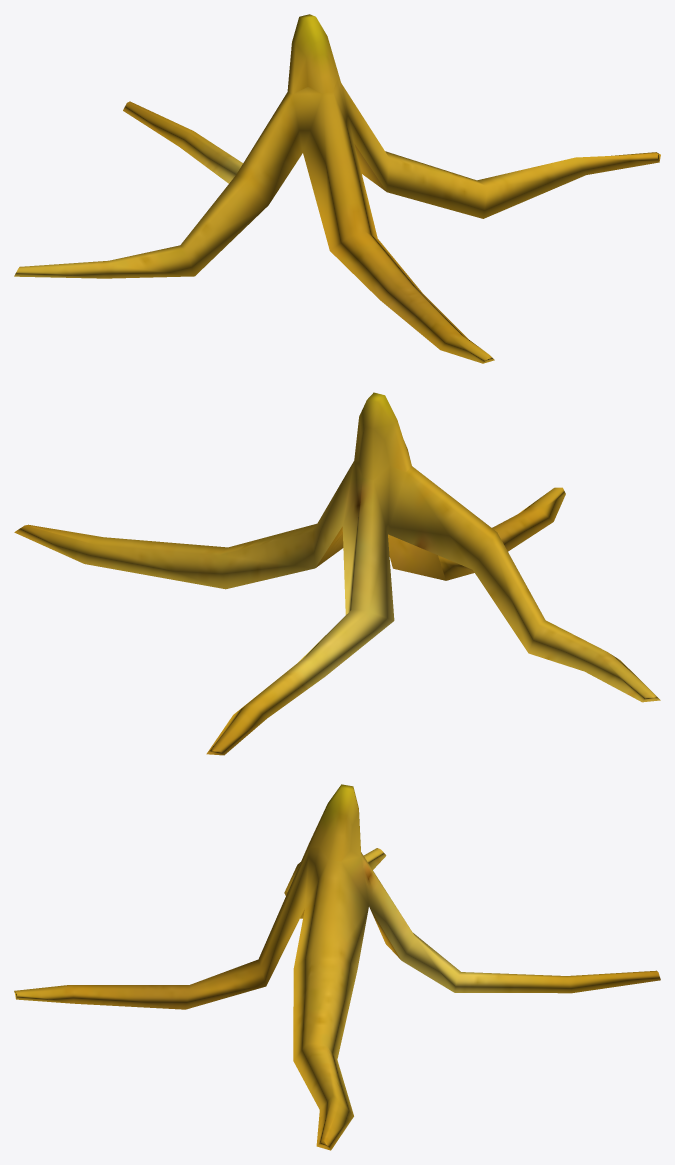
Rendered from Banana.fbx.
3 renders of one model, top to bottom at view 1: azimuth 30°, elevation 25°; view 2: azimuth 150°, elevation 25°; view 3: azimuth 270°, elevation 25°, orthographic. The views are drawn at different scales.
Parts seen in each view (by area): view 1: Banana1; view 2: Banana1; view 3: Banana1.
Part boxes in pixels (x1,y1,x2,y2): Banana1: (14,14,660,363); Banana1: (14,392,660,755); Banana1: (14,784,660,1150).
Size of the model in its own units: 25.96 by 8.81 by 24.66.
